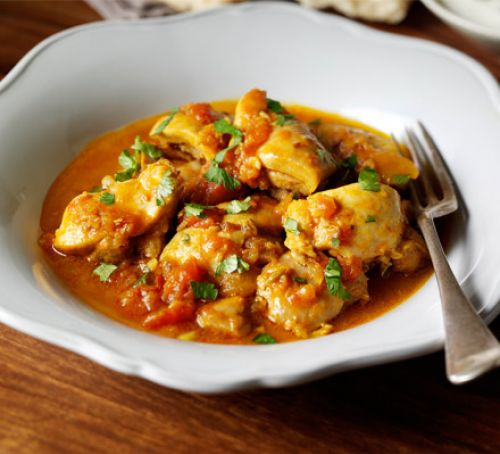chicken_curry: (47, 109, 440, 337)
